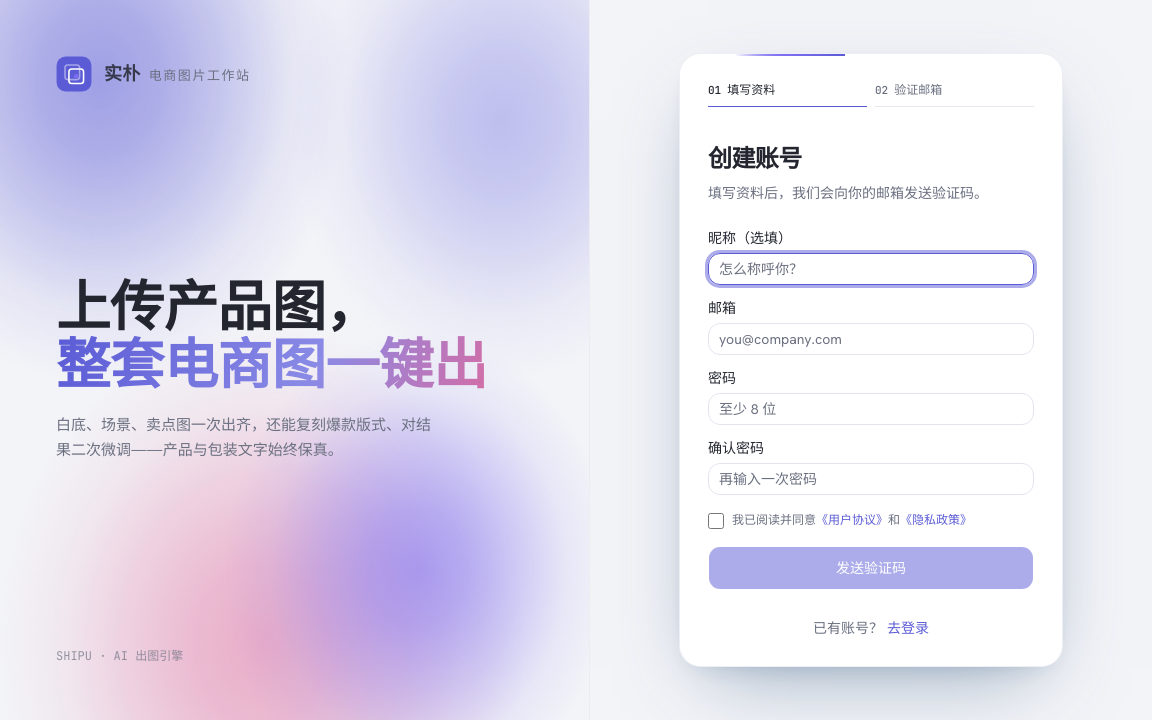
Scenario: RegisterPage sensitive mutation lifecycle › shows a retryable service message instead of an invalid-code message for a 500 verification response
Type "new.user@example.com" into the field labelled "邮箱" at (871, 339), box [708,323,1034,355]
Type "very-secret-password" into the password field labelled "密码" at (871, 409), box [708,393,1034,425]
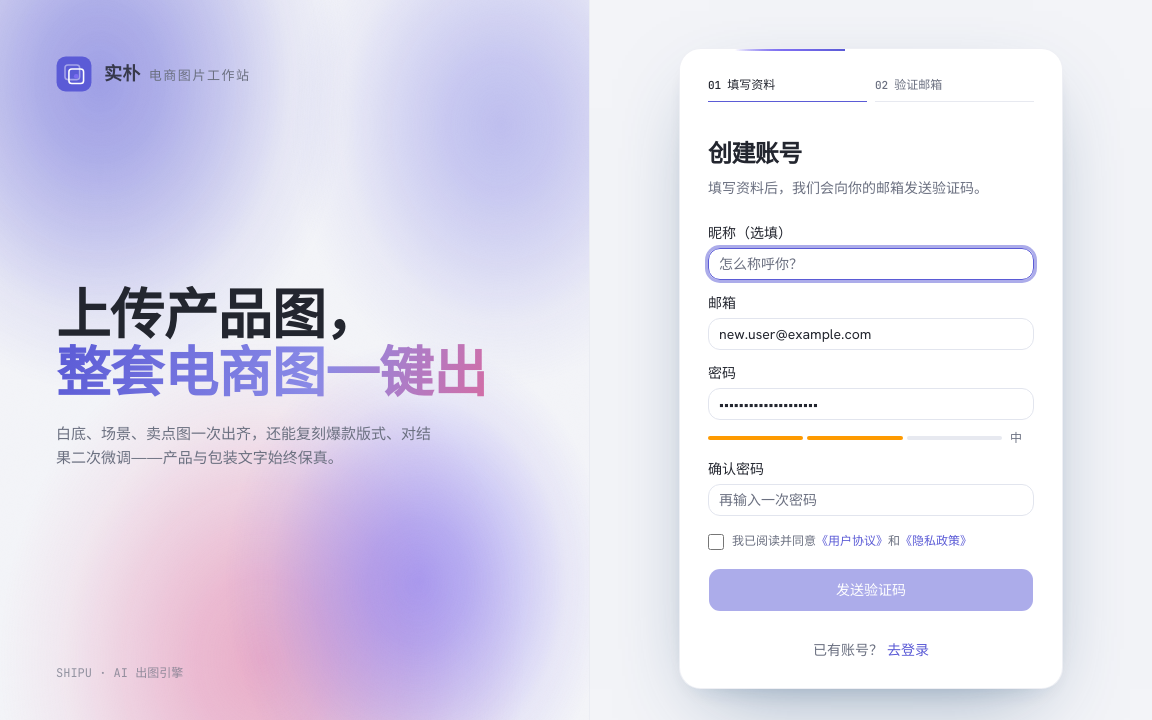
Type "very-secret-password" into the password field labelled "确认密码" at (871, 500), box [708,484,1034,516]
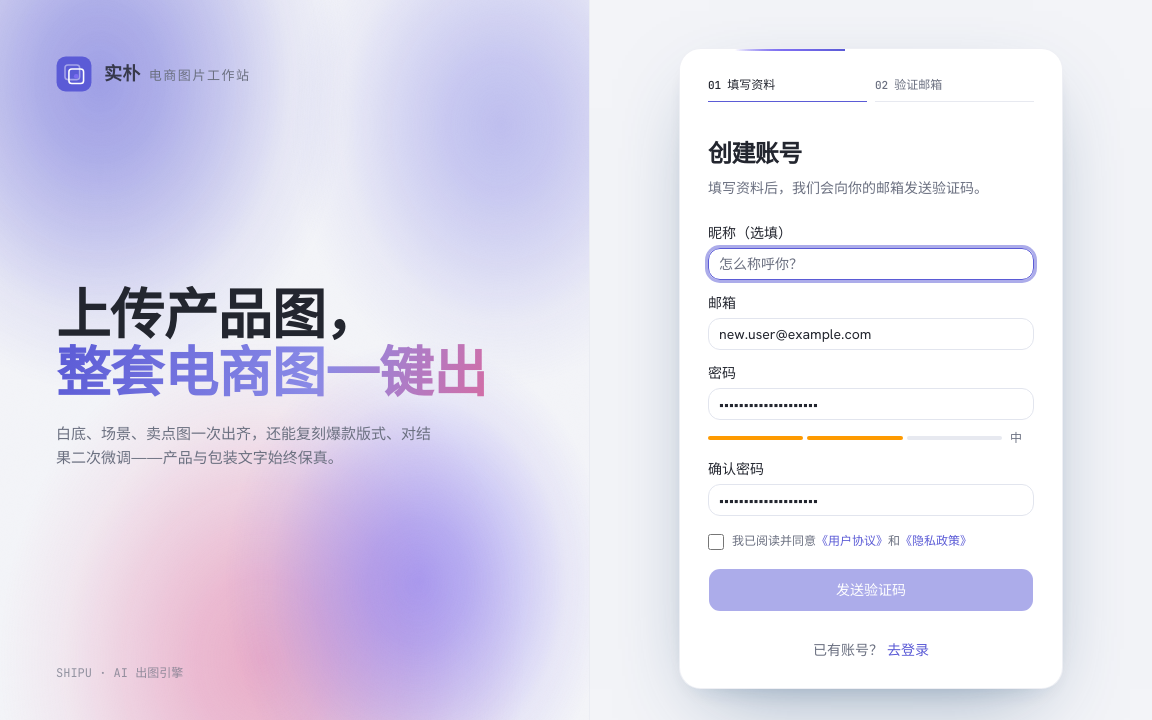
Click the checkbox at (716, 542), box [708,534,724,550]
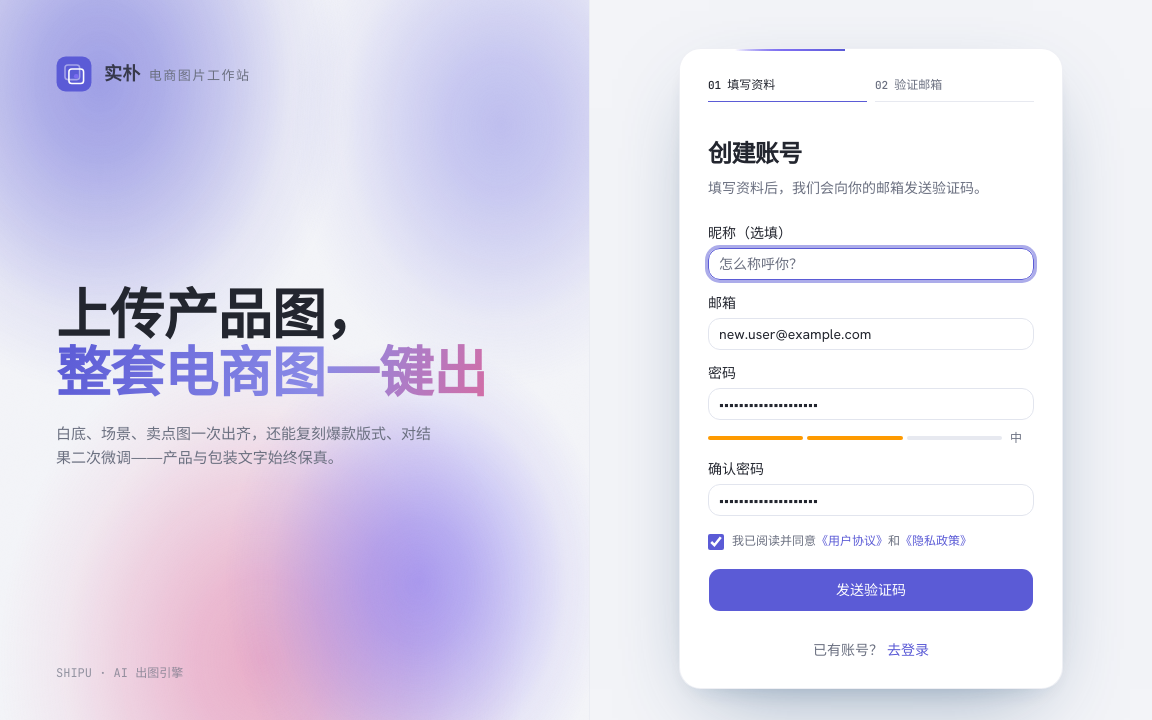
Click the button "发送验证码" at (871, 590), box [708,568,1034,612]
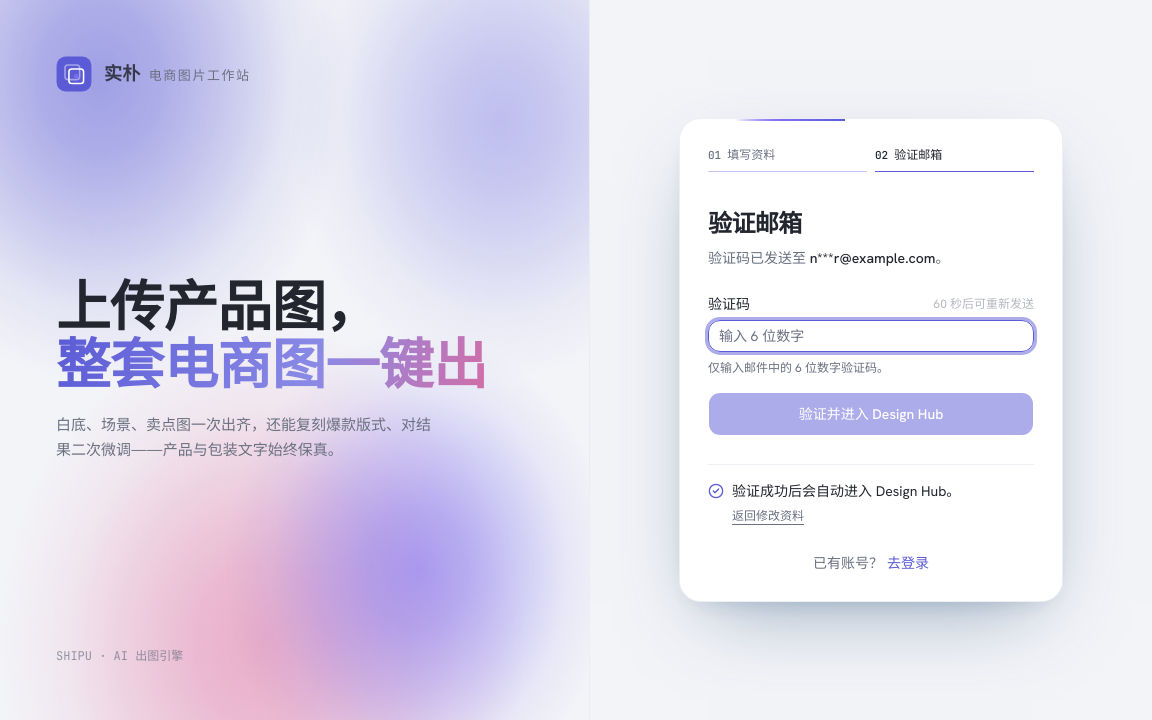
Type "123456" into the field labelled "验证码" at (871, 336), box [708,320,1034,352]
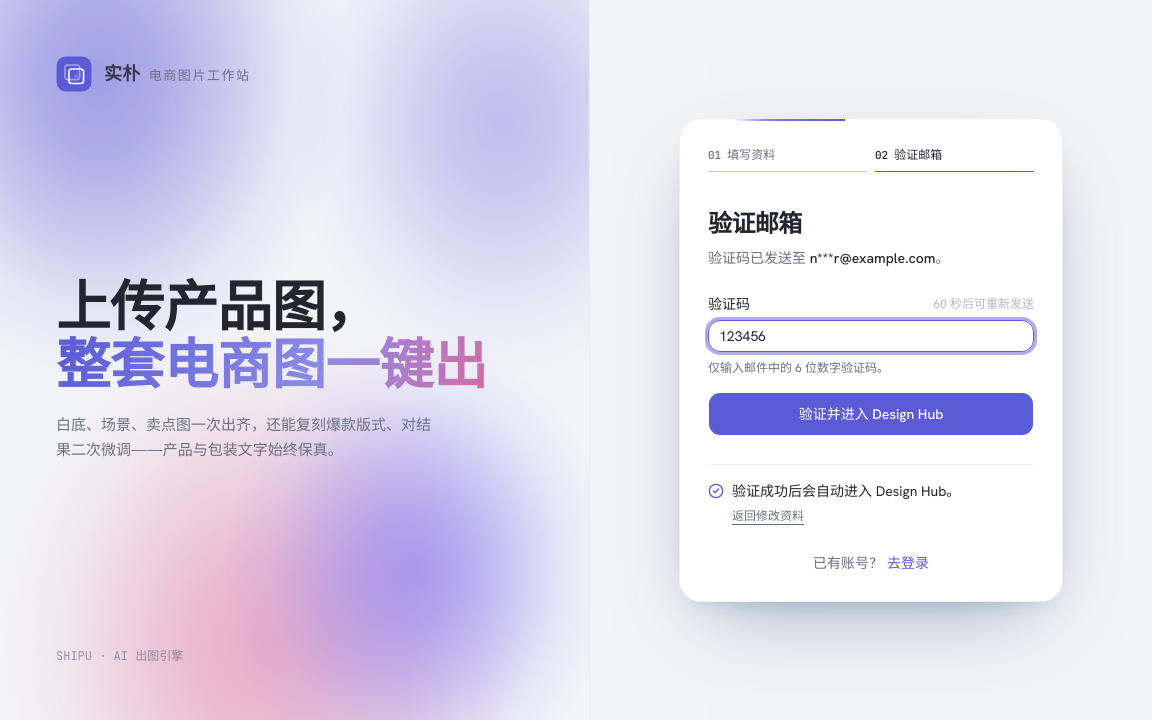
Click the button "验证并进入 Design Hub" at (871, 414), box [708,392,1034,436]
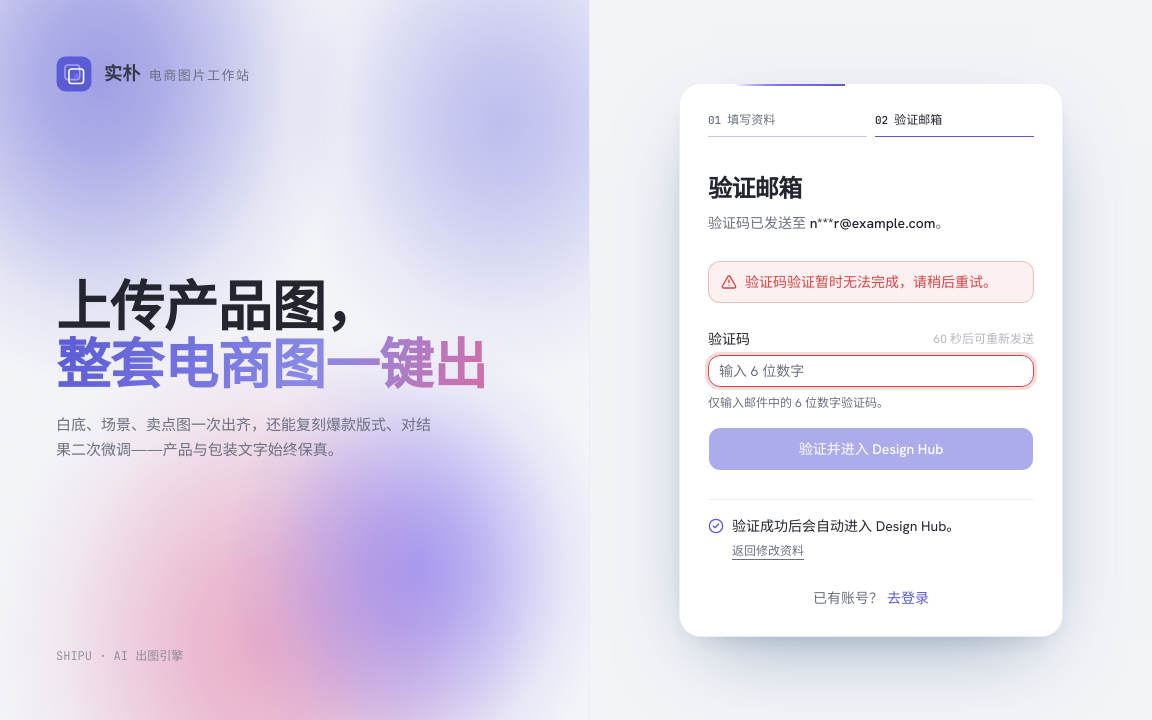
Now the message shows "验证暂时无法完成，请稍后重试。", box [745,273,997,291]
